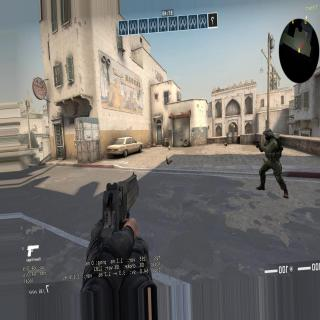CT-Body: (252, 124, 290, 188)
CT-Head: (263, 127, 274, 140)
